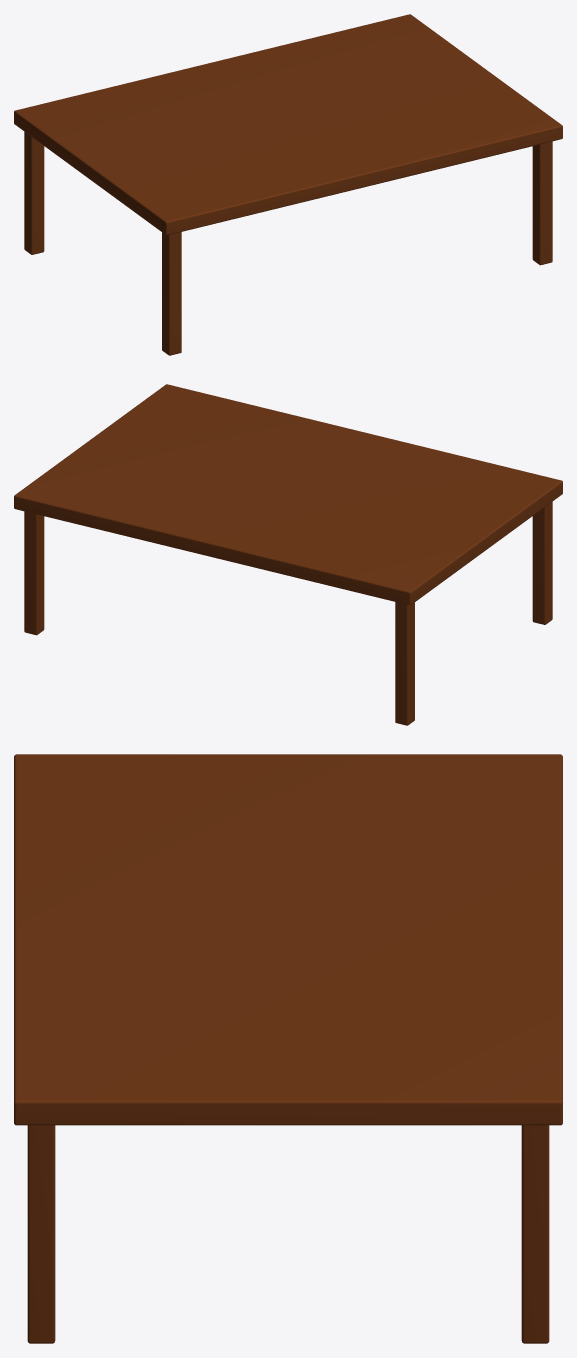
File: level.dae
3 views of the same model, one above another, from view 1: azimuth 30°, elevation 25°; view 2: azimuth 150°, elevation 25°; view 3: azimuth 270°, elevation 25° (orthographic). The views are drawn at different scales.
Visible parts, largest first — view 1: Table; view 2: Table; view 3: Table.
Boxes of the visible parts, bbox=[...] form: Table: bbox=[14, 14, 562, 355]; Table: bbox=[14, 384, 562, 725]; Table: bbox=[14, 754, 562, 1343].
Size of the model in its own units: 60 by 40 by 20.
